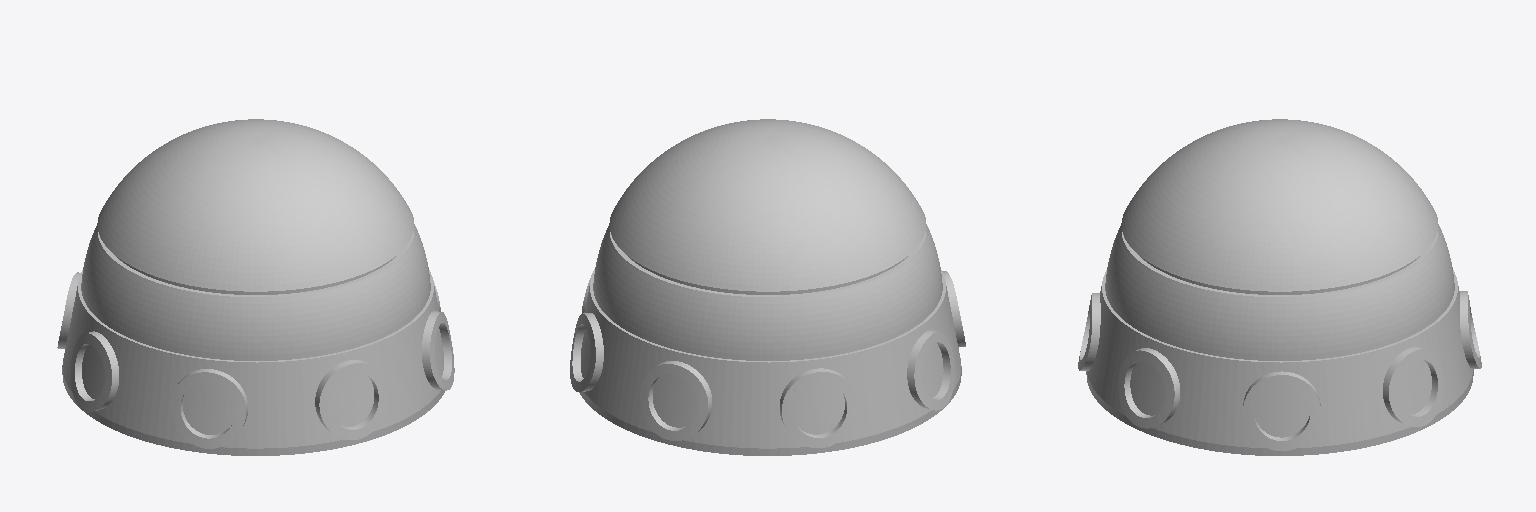
The model's file is domo.obj.
The picture shows the model from 3 angles: view 1: azimuth 30°, elevation 25°; view 2: azimuth 150°, elevation 25°; view 3: azimuth 270°, elevation 25°; orthographic projection.
Visible parts, largest first — view 1: DOMO; view 2: DOMO; view 3: DOMO.
Part boxes in pixels (left/top/right/bottom): DOMO: left=57, top=119, right=454, bottom=455; DOMO: left=570, top=119, right=965, bottom=455; DOMO: left=1078, top=119, right=1481, bottom=455.
Bounding box in the file's own units: 0.642 × 0.4156 × 0.642.